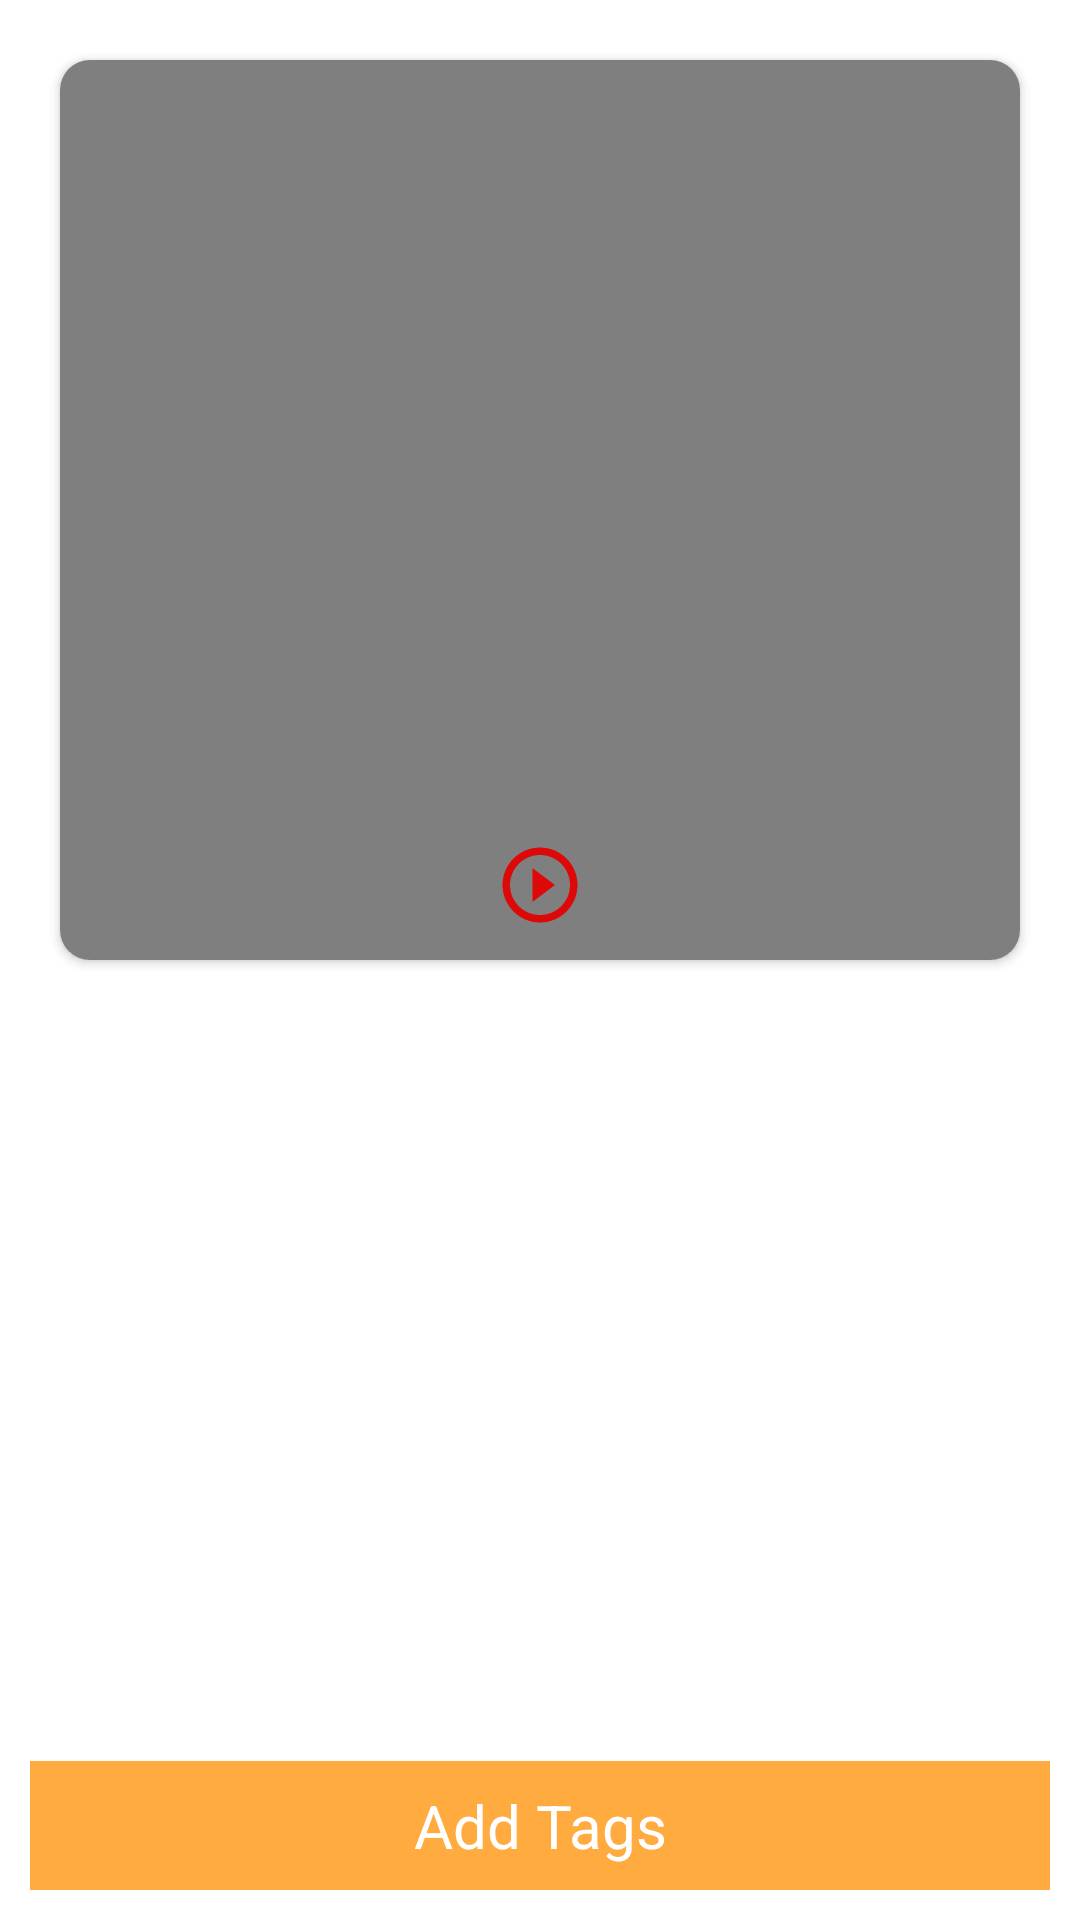

Icon click points for this 1080×1920 phone screenshot, format (x=x, y=y):
play: (x=540, y=885)
